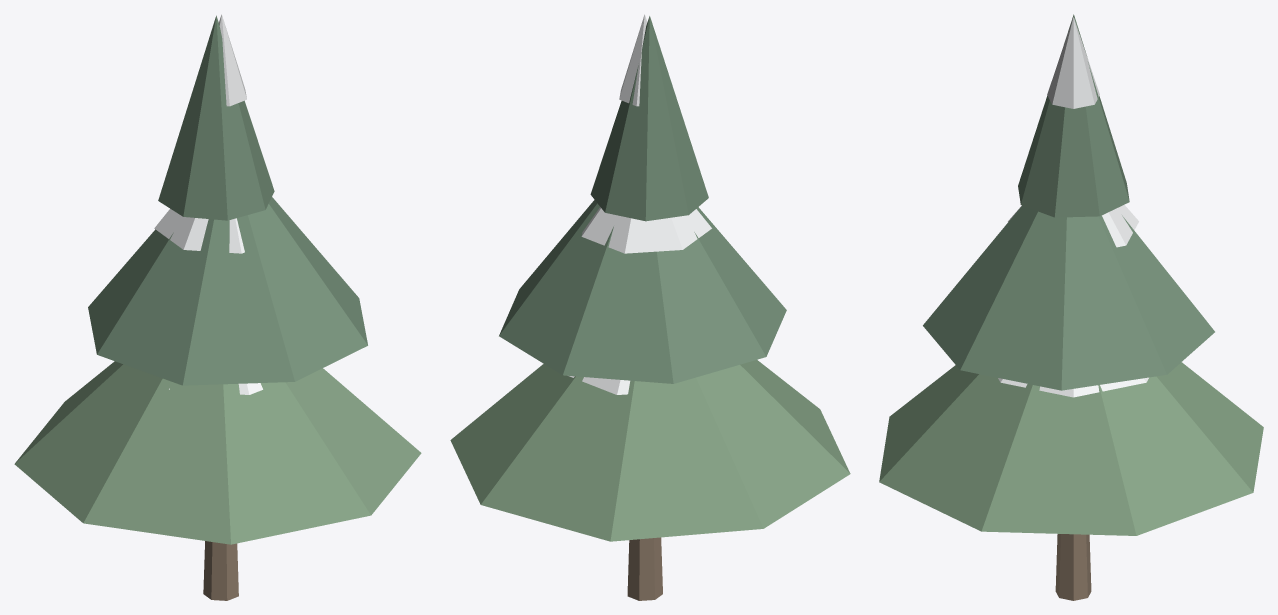
File: node_tree_tundra_1.glb
3 renders of one model, left to right at view 1: azimuth 30°, elevation 25°; view 2: azimuth 150°, elevation 25°; view 3: azimuth 270°, elevation 25°, orthographic.
Parts seen in each view (by area): view 1: node_tree_tundra_1; view 2: node_tree_tundra_1; view 3: node_tree_tundra_1.
Boxes of the visible parts, x1,y1,x2,y2 form: node_tree_tundra_1: (14,14,421,600); node_tree_tundra_1: (450,14,850,600); node_tree_tundra_1: (879,14,1263,600).
Size of the model in its own units: 4.61 by 7.62 by 4.61.
